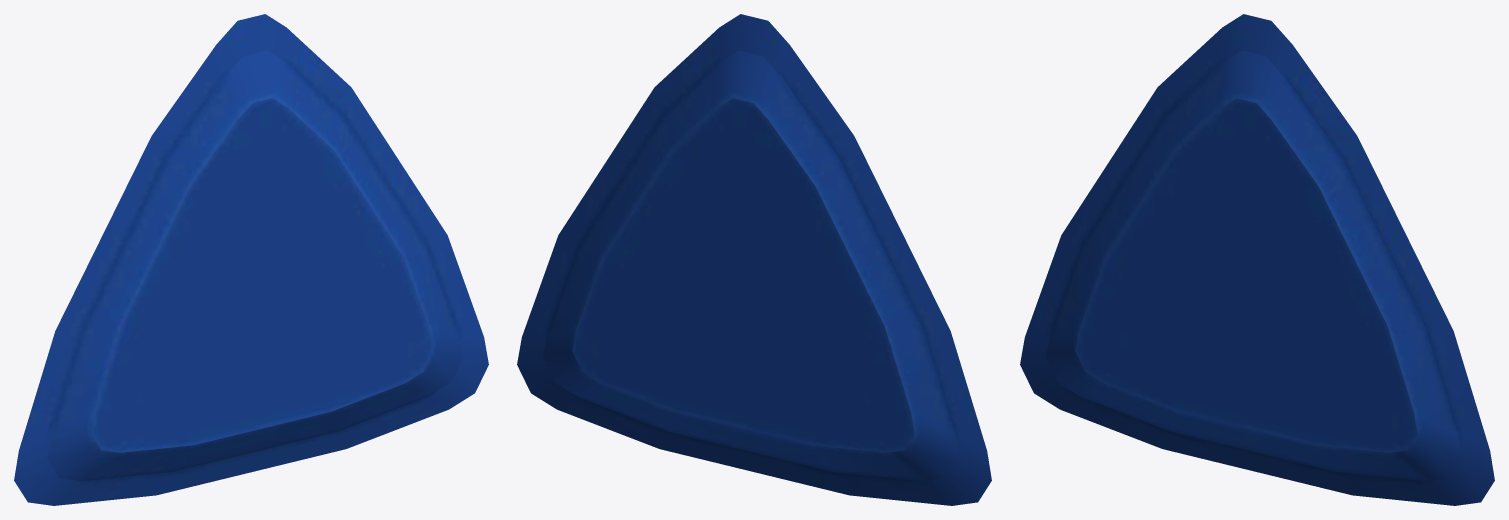
Rendered from ScreenTool.fbx.
3 renders of one model, left to right at view 1: azimuth 30°, elevation 25°; view 2: azimuth 150°, elevation 25°; view 3: azimuth 330°, elevation 25°, orthographic.
Parts seen in each view (by area): view 1: ScreenTool; view 2: ScreenTool; view 3: ScreenTool.
Boxes of the visible parts, x1,y1,x2,y2 form: ScreenTool: [14, 14, 488, 505]; ScreenTool: [517, 14, 991, 505]; ScreenTool: [1020, 14, 1494, 505].
Bounding box in the file's own units: 44.64 × 40.85 × 3.61.
